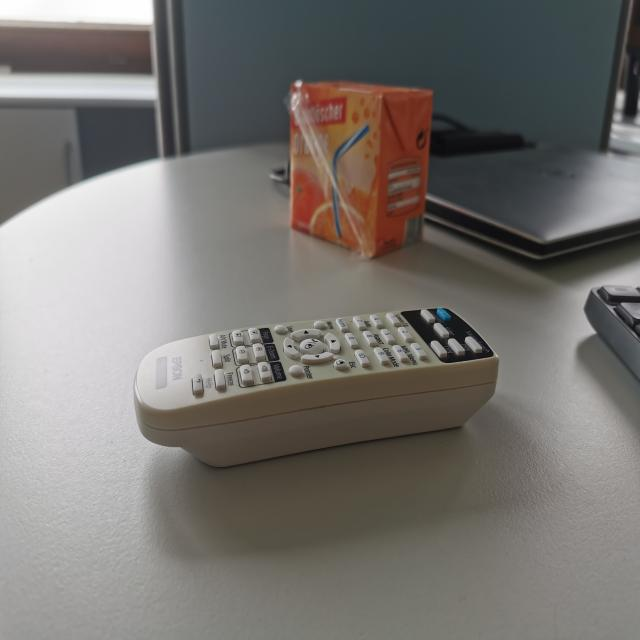remote: (130, 299, 502, 471)
